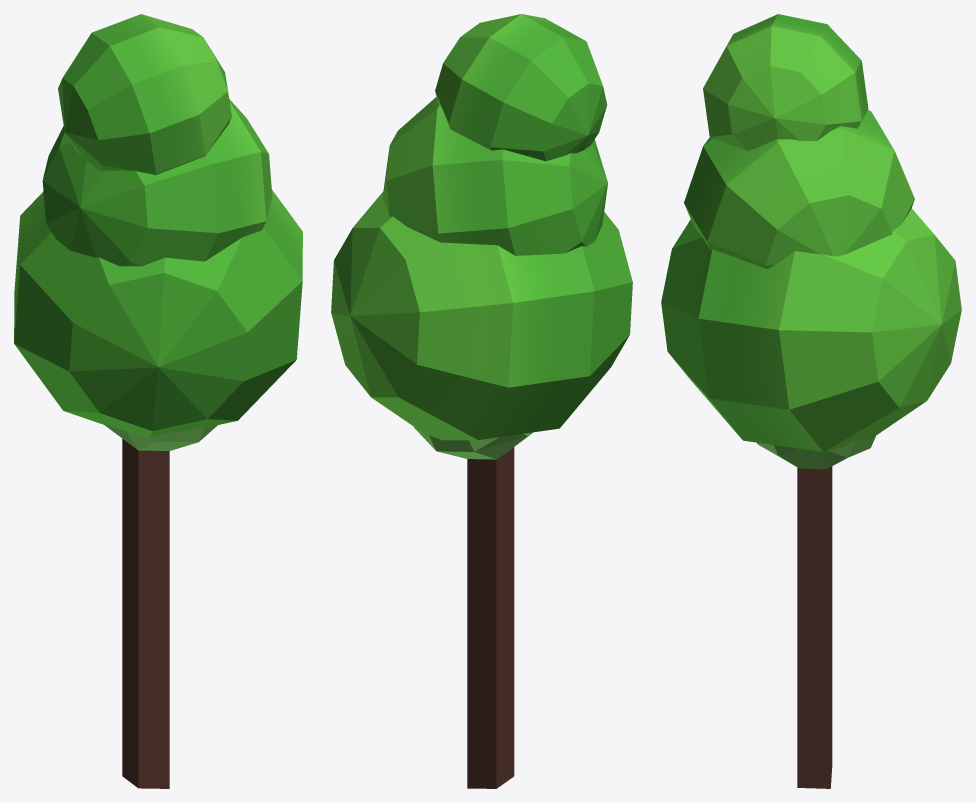
File: tree_2_2_world_ap_0_lev1.glb
The picture shows the model from 3 angles, left to right: view 1: azimuth 30°, elevation 25°; view 2: azimuth 150°, elevation 25°; view 3: azimuth 270°, elevation 25°; orthographic projection. The views are drawn at different scales.
Parts seen in each view (by area): view 1: tree_2_2_world_ap_0_lev1; view 2: tree_2_2_world_ap_0_lev1; view 3: tree_2_2_world_ap_0_lev1.
Part boxes in pixels (x1,y1,x2,y2): tree_2_2_world_ap_0_lev1: (14,14,302,788); tree_2_2_world_ap_0_lev1: (331,14,632,788); tree_2_2_world_ap_0_lev1: (661,14,961,788).
Bounding box in the file's own units: 0.6218 × 1.81 × 0.6574.
Materials: 1 (1 with a texture image).
